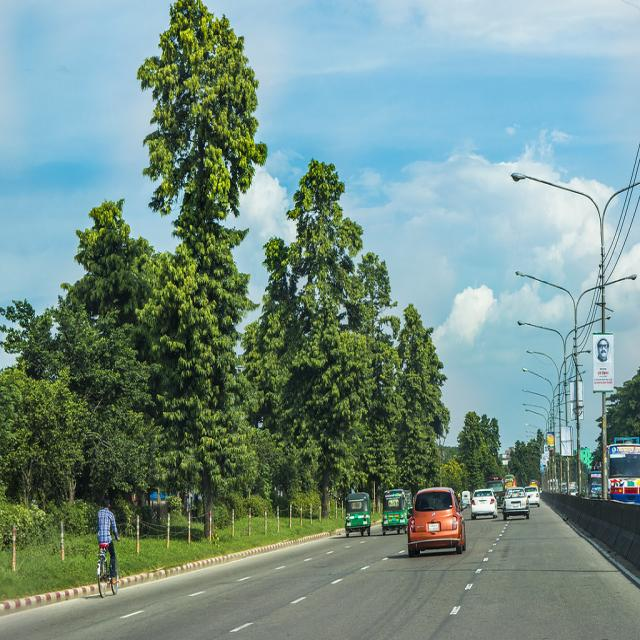red: (407, 490, 468, 560)
silver: (502, 487, 531, 522)
white: (471, 487, 497, 522), (524, 485, 540, 508)
